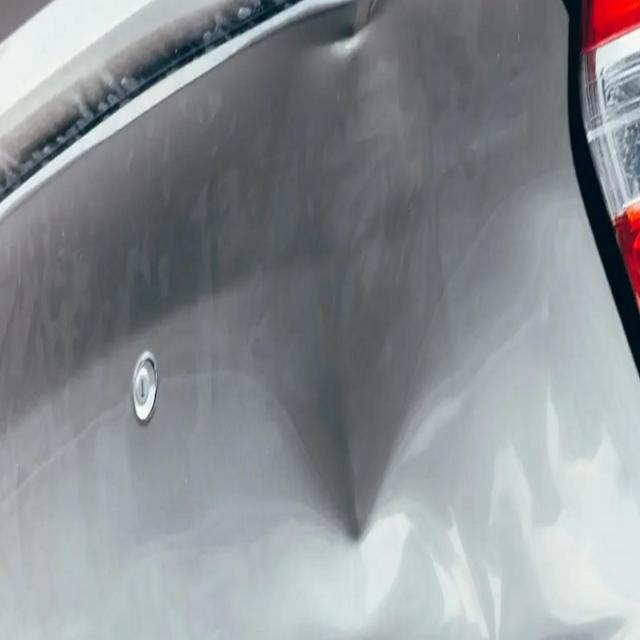dent: (266, 0, 410, 565)
